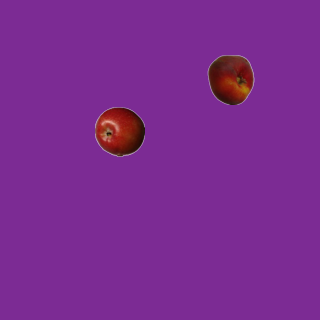Apple Braeburn: (94, 106, 144, 156)
Nectarine Flat: (205, 54, 255, 104)
